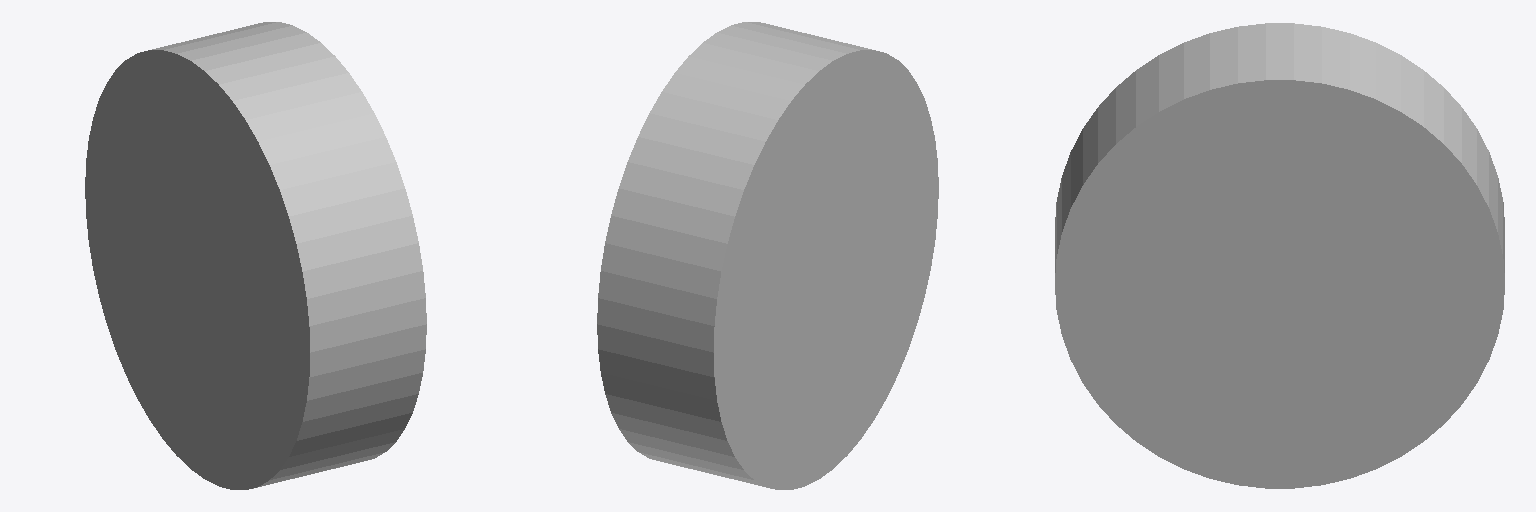
File: tire2.obj
The picture shows the model from 3 angles: view 1: azimuth 30°, elevation 25°; view 2: azimuth 150°, elevation 25°; view 3: azimuth 270°, elevation 25°; orthographic projection.
Parts seen in each view (by area): view 1: Cylinder_Cylinder.002; view 2: Cylinder_Cylinder.002; view 3: Cylinder_Cylinder.002.
Boxes of the visible parts, box(x1,y1,x2,y2) form: Cylinder_Cylinder.002: box(85, 22, 426, 489); Cylinder_Cylinder.002: box(597, 22, 938, 489); Cylinder_Cylinder.002: box(1055, 23, 1504, 488).
Bounding box in the file's own units: 0.215 × 0.72 × 0.72.